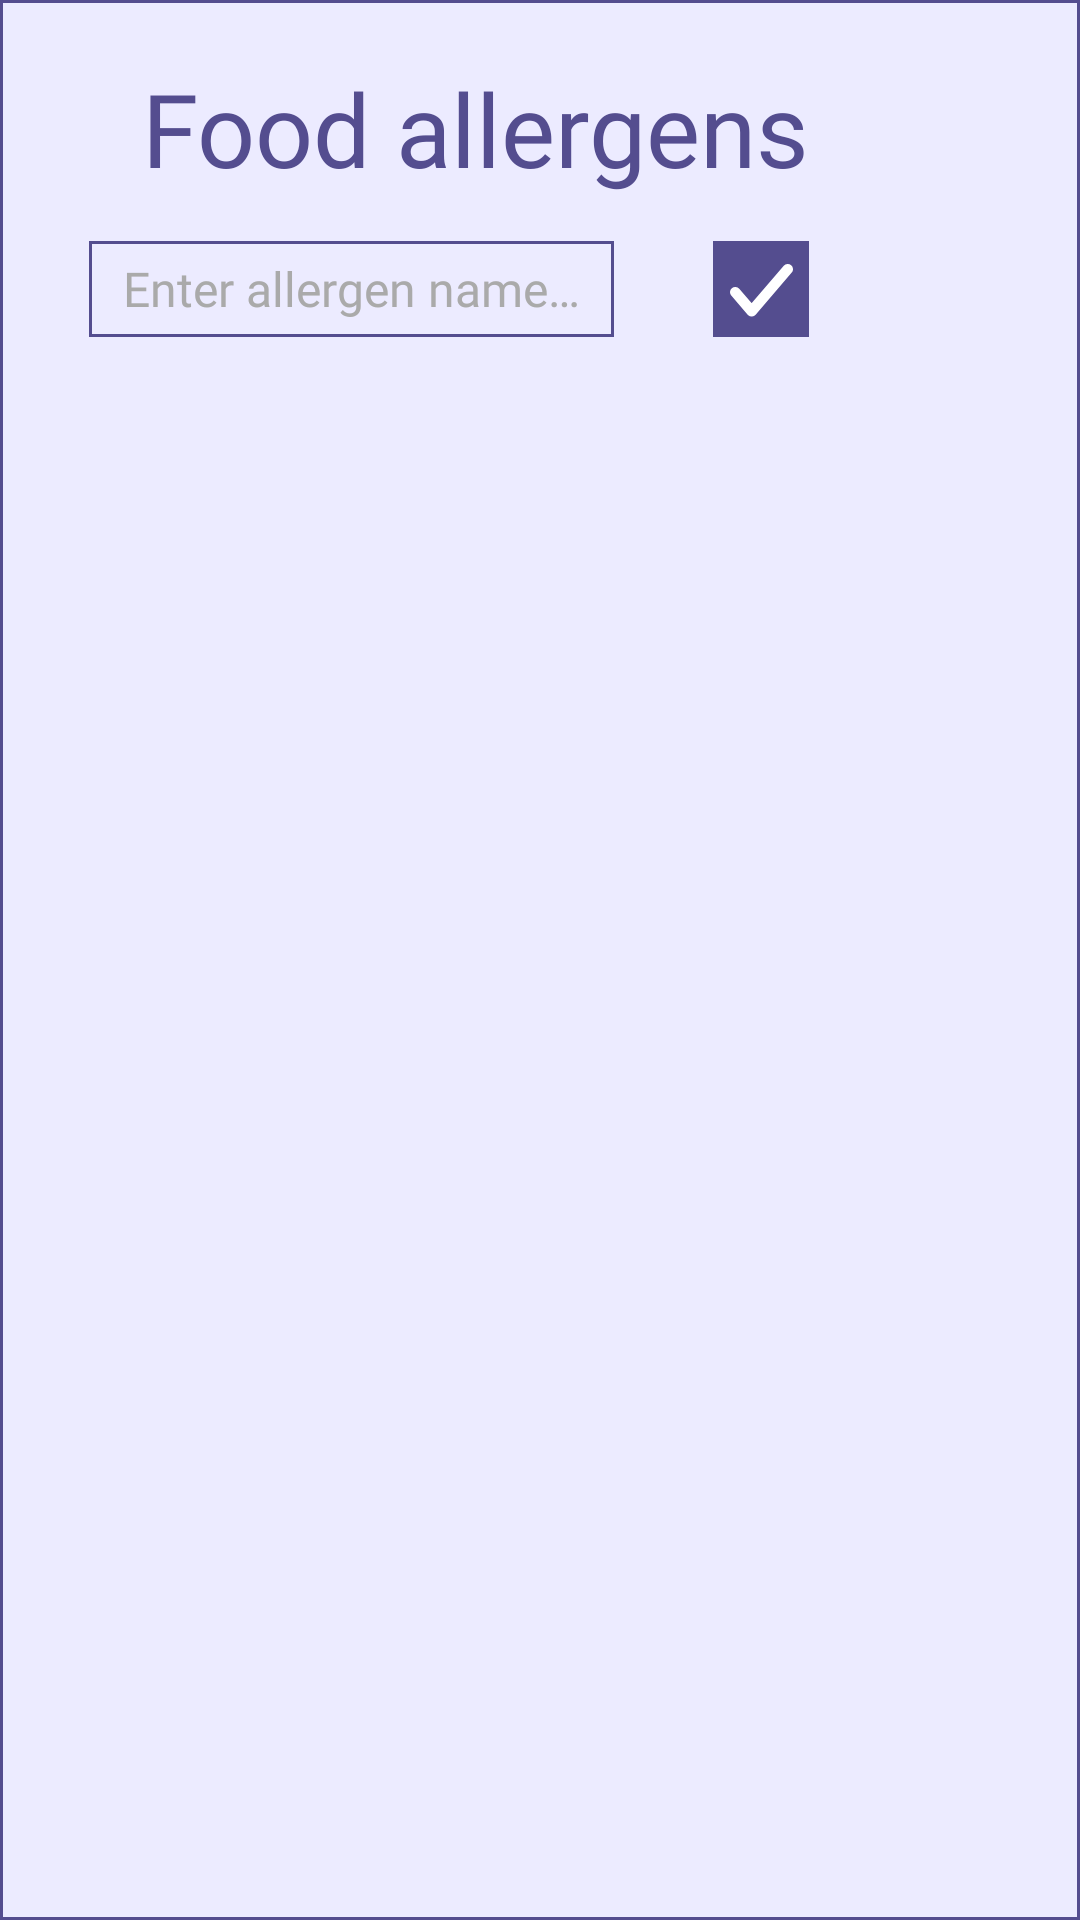

Where to tap for icons on this 1080px×1920px app screen, as (x,y):
Save allergen: (761,289)
